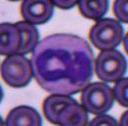N: (32, 32, 94, 94)
